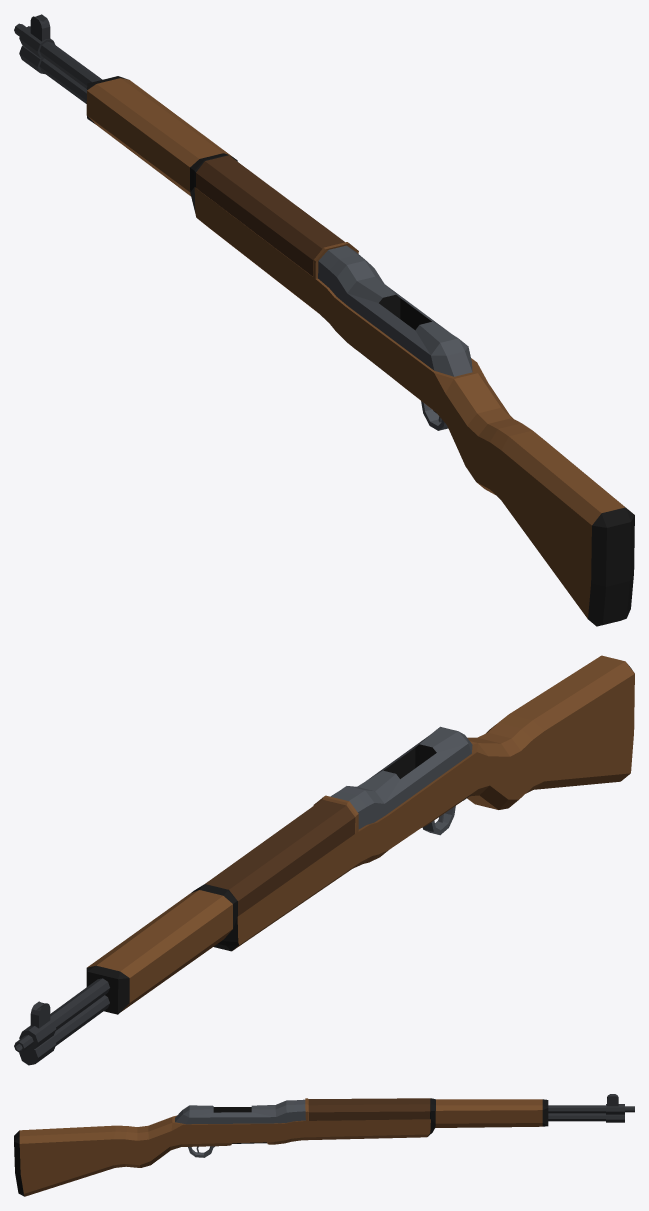
File: rifle.glb
3 renders of one model, top to bottom at view 1: azimuth 30°, elevation 25°; view 2: azimuth 150°, elevation 25°; view 3: azimuth 270°, elevation 25°, orthographic. The views are drawn at different scales.
Visible parts, largest first — view 1: Rifle; view 2: Rifle; view 3: Rifle.
Part boxes in pixels (x1,y1,x2,y2): Rifle: (14,14,634,626); Rifle: (14,655,634,1065); Rifle: (14,1094,634,1196).
Bounding box in the file's own units: 0.0372 × 0.1577 × 0.9.
